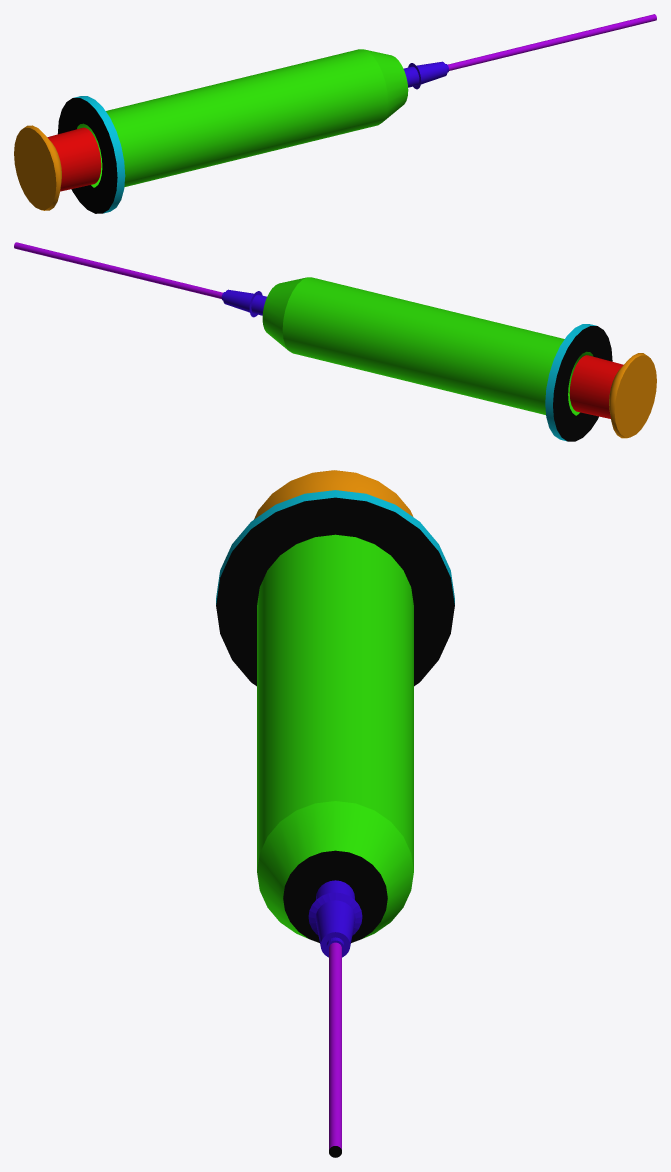
File: 1N_Jeringa.fbx
The picture shows the model from 3 angles, top to bottom: view 1: azimuth 30°, elevation 25°; view 2: azimuth 150°, elevation 25°; view 3: azimuth 270°, elevation 25°; orthographic projection. The views are drawn at different scales.
Parts seen in each view (by area): view 1: Jeringa001; view 2: Jeringa001; view 3: Jeringa001.
Part boxes in pixels (box(x1,y1,x2,y2)): Jeringa001: box(14, 14, 656, 213); Jeringa001: box(14, 242, 656, 441); Jeringa001: box(216, 470, 454, 1157).
Size of the model in its own units: 21.74 by 3.63 by 3.63.
